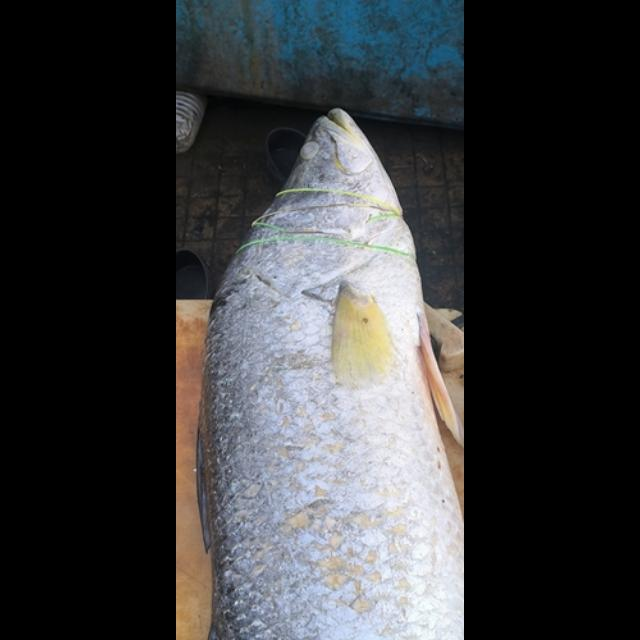Seabass: (196, 106, 464, 640)
